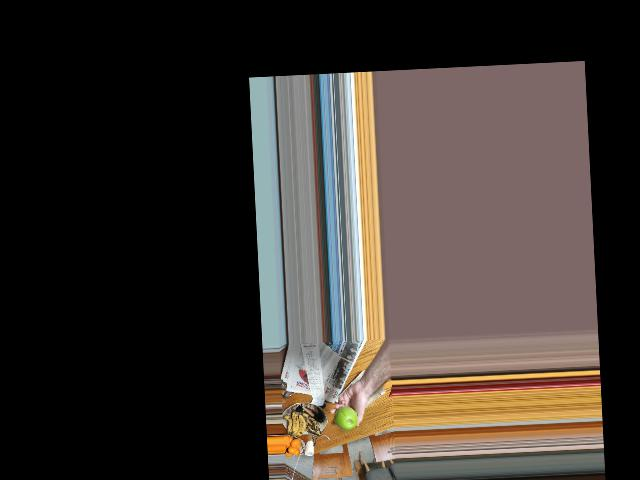apple: (334, 404, 358, 430)
